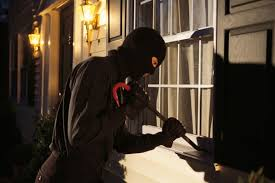crowbar: (111, 81, 206, 153)
